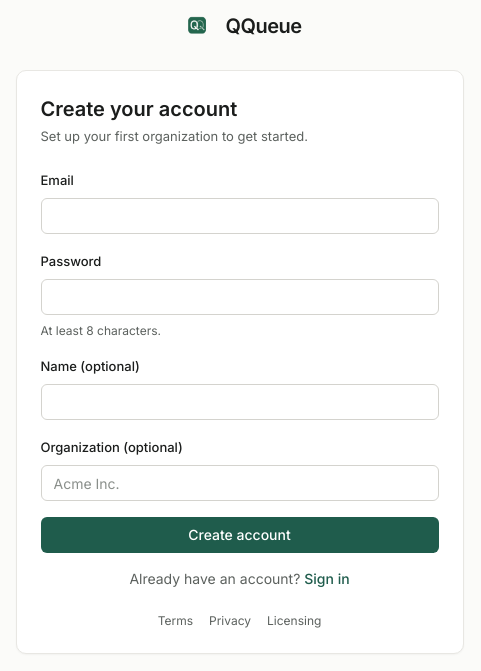
Test: Login › enforces an 8-character password in register mode
In the field labelled "Email": {"x": 240, "y": 216} x1=40 y1=198 x2=438 y2=234, type "a@b.com"
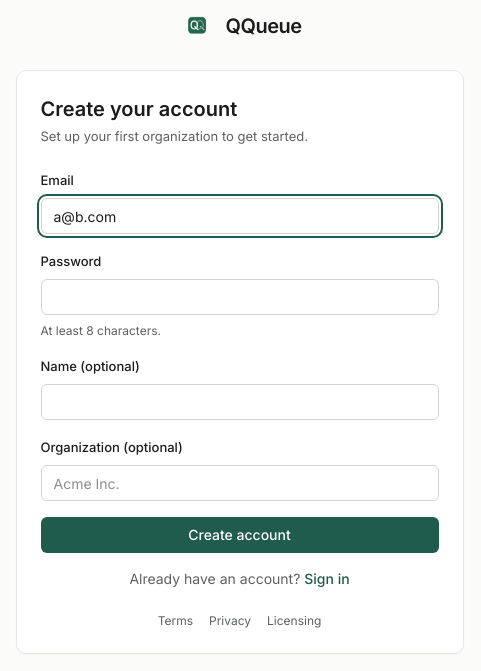
In the password field labelled "Password": {"x": 240, "y": 297} x1=40 y1=279 x2=438 y2=315, type "short"
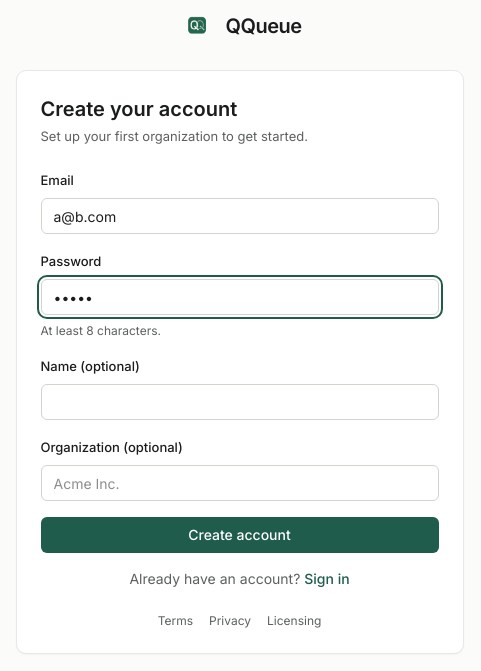
Click the button "Create account": {"x": 240, "y": 535} x1=40 y1=517 x2=438 y2=553
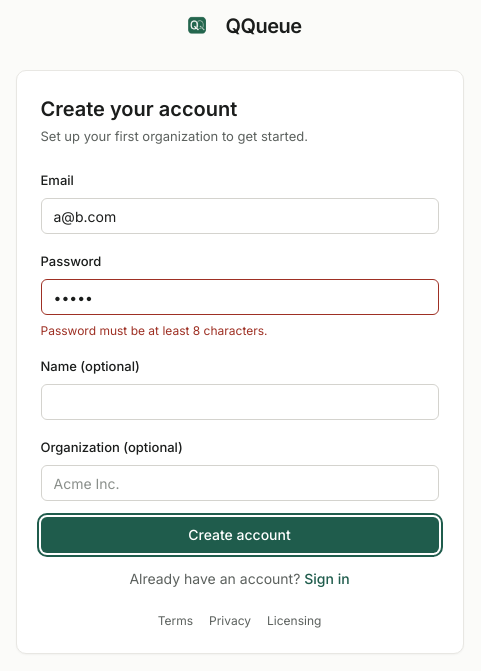
Now the text "Password must be at least 8 characters." is shown, box x1=40 y1=323 x2=268 y2=338
